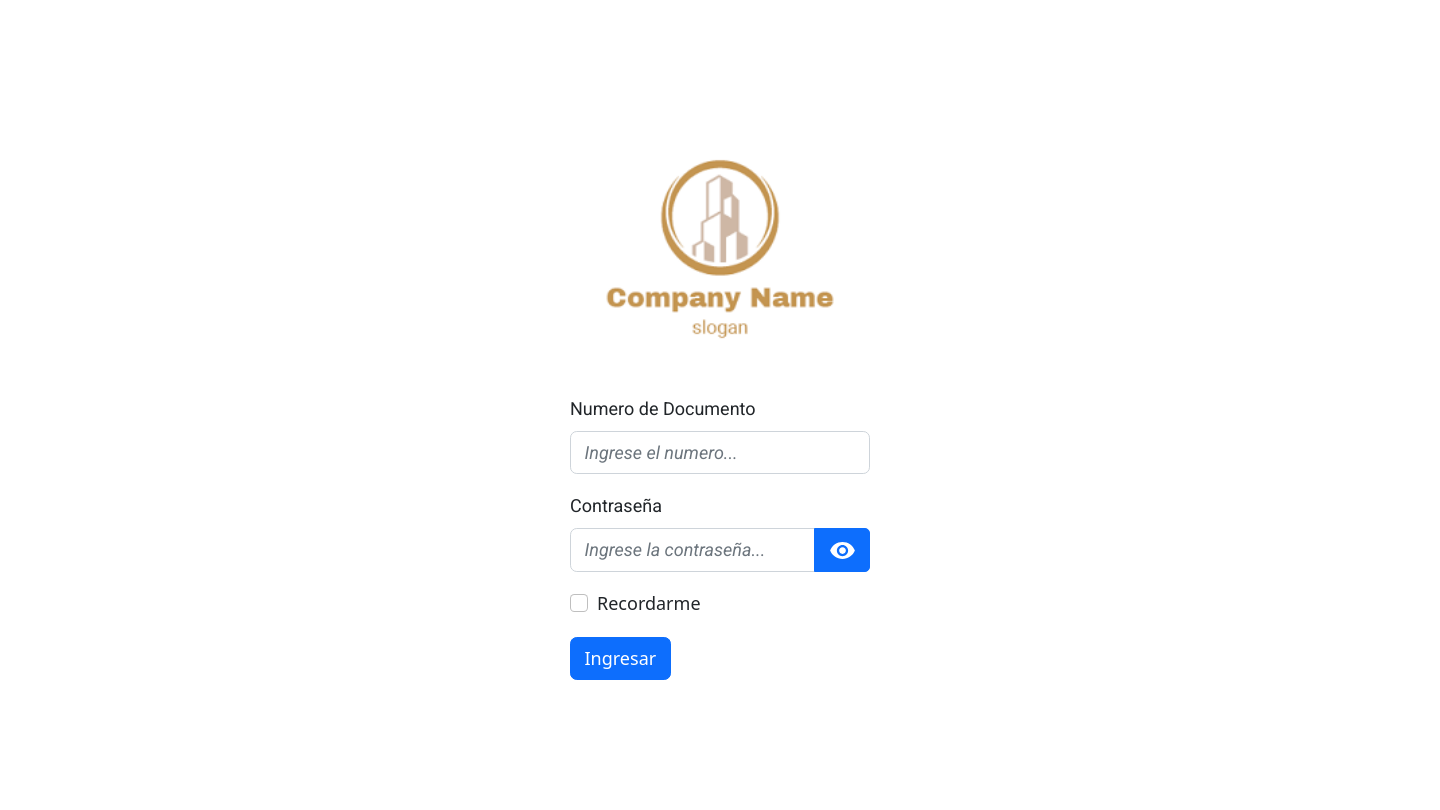
Test: FormLogin › Obtiene un error cuando doy click en el boton: 'ingresar' sin llenar los campos
The image size is (1440, 810).
Click the button "Ingresar".
click(620, 658)  # box x1=570 y1=637 x2=671 y2=680
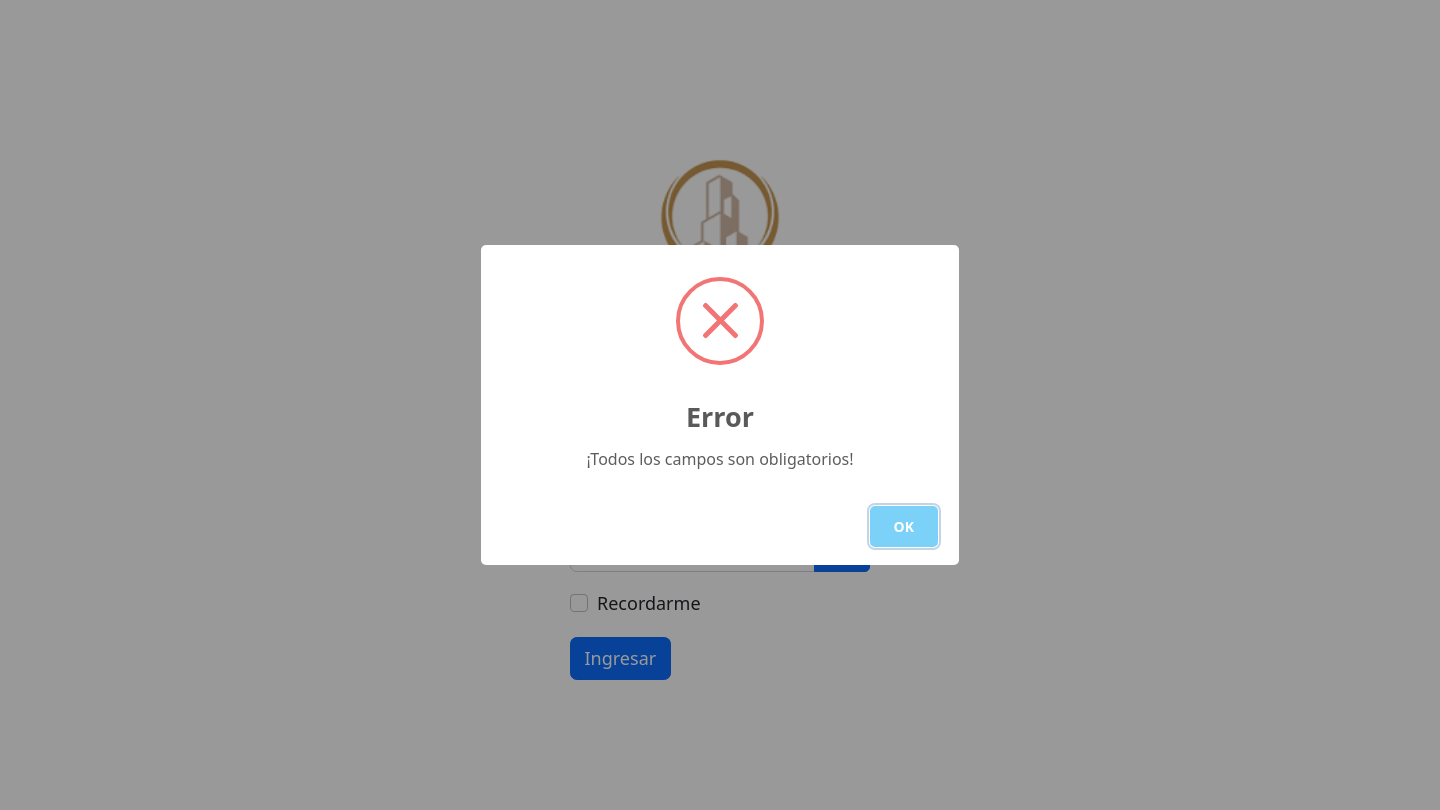
Check: the text "¡Todos los campos son obligatorios!" is shown, box x1=576 y1=448 x2=864 y2=470
